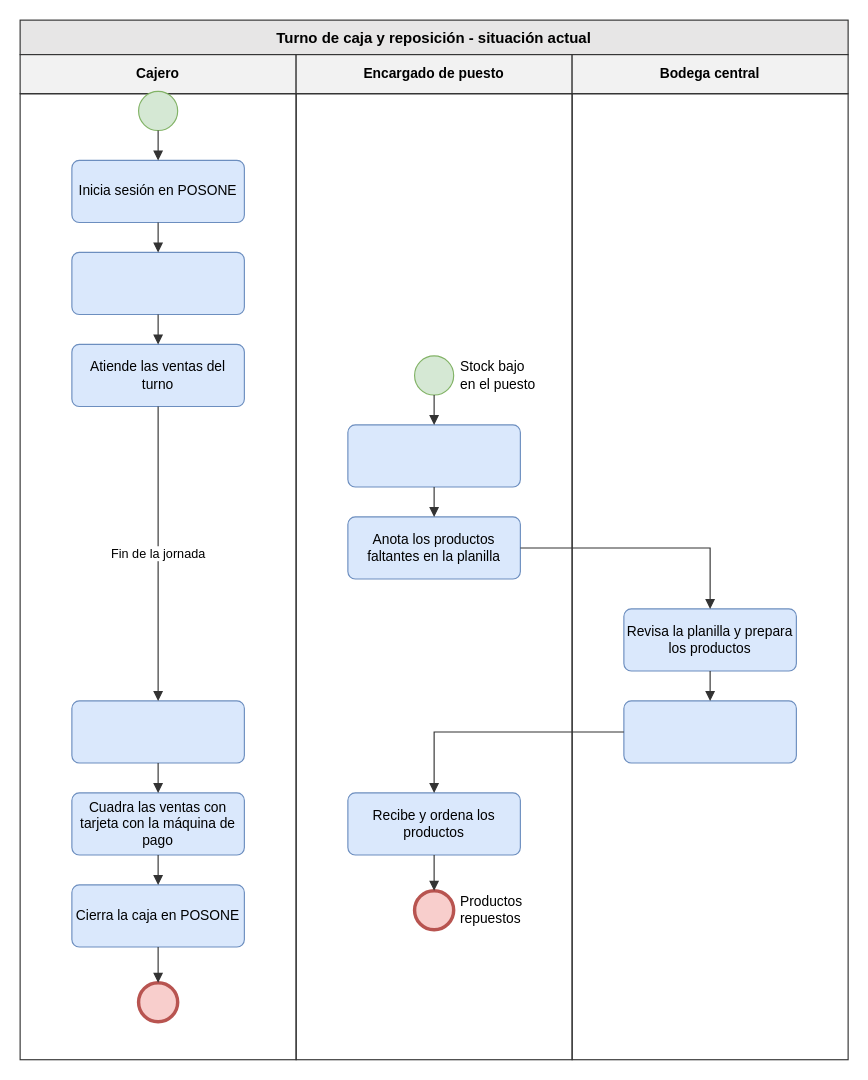
Image size: 868x1080. Some labels were removed from this diagram. The centre of each missing label's shape, as x and y in pixels:
Abre la caja con el fondo inicial: the point at 157,283
Cuenta el efectivo de la caja: the point at 157,731
Despacha los productos al puesto: the point at 709,731
Fin del turno: the point at 157,1001
Inicio del turno: the point at 157,110
Revisa el stock del puesto: the point at 433,455
